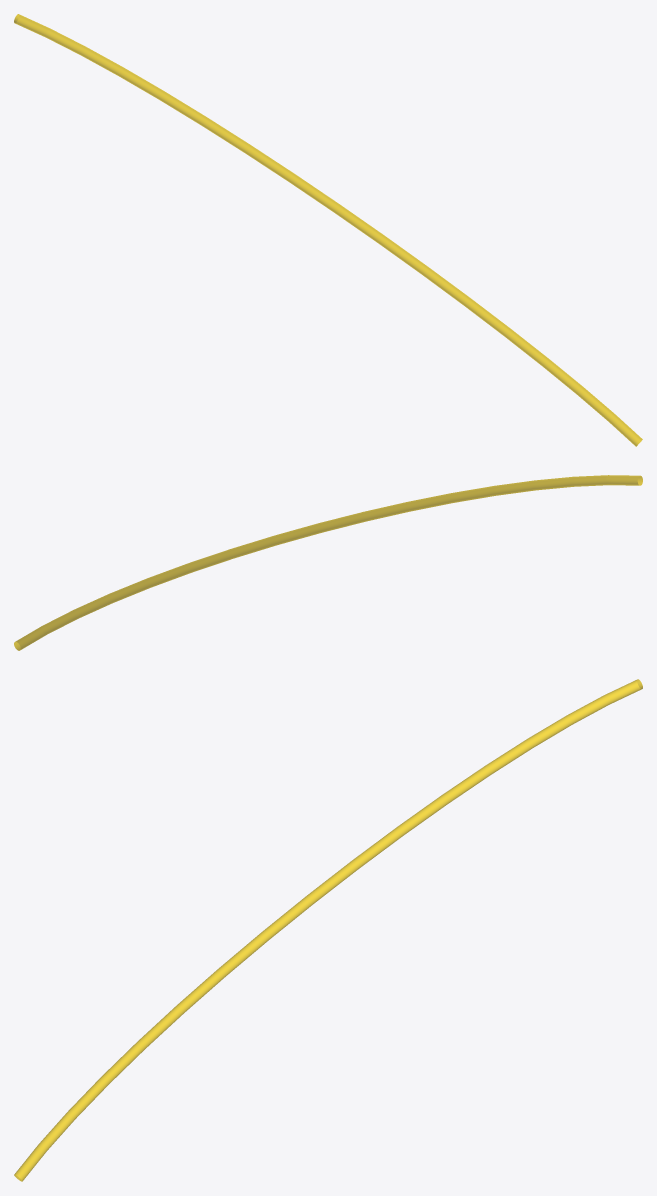
Rendered from Event_17758602_track_120.fbx.
3 views of the same model, one above another, from view 1: azimuth 30°, elevation 25°; view 2: azimuth 210°, elevation 25°; view 3: azimuth 270°, elevation 25° (orthographic). The views are drawn at different scales.
Parts seen in each view (by area): view 1: Model; view 2: Model; view 3: Model.
Boxes of the visible parts, left/top/right/bottom form: Model: left=14, top=14, right=642, bottom=446; Model: left=14, top=475, right=642, bottom=650; Model: left=14, top=679, right=642, bottom=1181.
Bounding box in the file's own units: 1.56 × 1.32 × 2.3.
